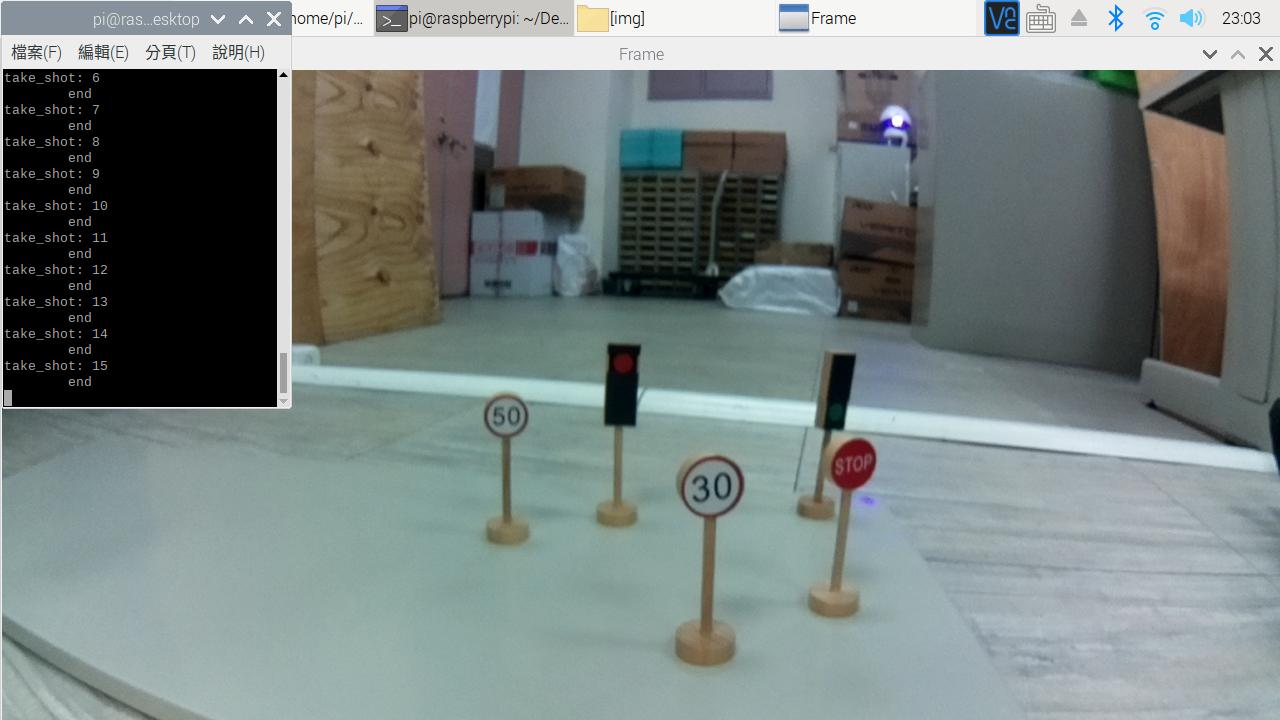Green: (823, 347, 846, 433)
Red: (603, 339, 637, 431)
Speed30: (667, 453, 755, 520)
Speed50: (477, 390, 531, 434)
Stop: (825, 439, 880, 488)
